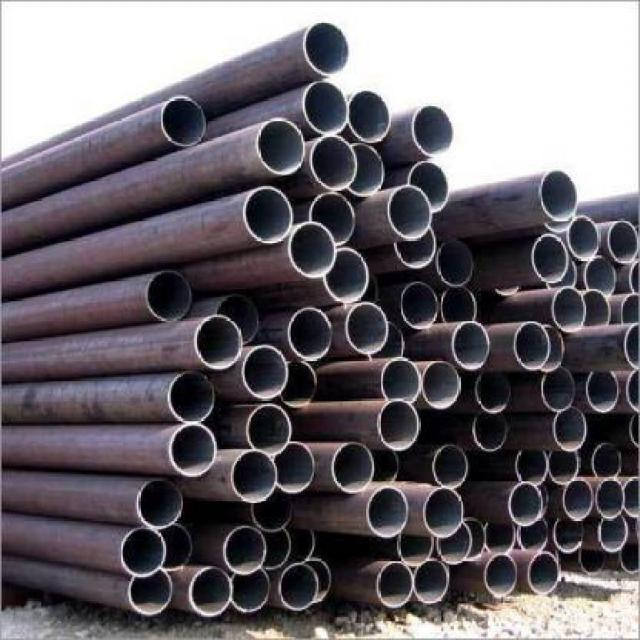pipe: (243, 186, 294, 245), (257, 120, 306, 176), (288, 224, 337, 279), (196, 316, 245, 371), (311, 137, 359, 191), (323, 246, 369, 302), (168, 371, 216, 424), (310, 192, 356, 245), (288, 308, 334, 361), (171, 423, 217, 476), (303, 23, 349, 76), (231, 451, 277, 504), (388, 186, 433, 240), (303, 82, 348, 136), (243, 346, 288, 399), (120, 530, 168, 579), (246, 405, 292, 456), (137, 479, 183, 530), (160, 97, 206, 148), (189, 566, 234, 617), (346, 303, 389, 356), (377, 398, 420, 451), (348, 91, 391, 144), (148, 273, 194, 322), (412, 105, 454, 158), (368, 486, 410, 539), (408, 162, 451, 213), (331, 443, 374, 494), (274, 442, 316, 493), (539, 169, 579, 222), (223, 528, 266, 576), (129, 571, 174, 616), (451, 320, 490, 371), (217, 297, 260, 343), (420, 360, 460, 409), (425, 488, 465, 537), (279, 565, 319, 613), (531, 234, 570, 283), (380, 359, 420, 405), (351, 143, 385, 197), (231, 569, 271, 614), (402, 282, 439, 330), (514, 322, 551, 370), (377, 562, 414, 610), (394, 228, 437, 269), (437, 240, 474, 286), (253, 491, 293, 533), (157, 523, 192, 571), (414, 559, 451, 604), (436, 522, 474, 565), (508, 482, 544, 527), (552, 288, 586, 333), (542, 368, 576, 413), (554, 408, 588, 453), (432, 445, 466, 490), (485, 554, 519, 599), (568, 215, 601, 260), (476, 372, 511, 414), (607, 220, 640, 264), (588, 372, 621, 414), (440, 286, 477, 323), (472, 414, 508, 452), (528, 553, 559, 596), (563, 478, 594, 520), (585, 257, 618, 296), (516, 449, 550, 486), (397, 534, 435, 567), (596, 478, 625, 520), (262, 529, 291, 571), (302, 558, 331, 600), (554, 515, 585, 554), (517, 517, 550, 551), (542, 325, 565, 373), (583, 291, 611, 330), (485, 523, 518, 556), (593, 443, 622, 480), (548, 451, 579, 485), (599, 517, 628, 553), (465, 519, 488, 562), (623, 323, 639, 371)
